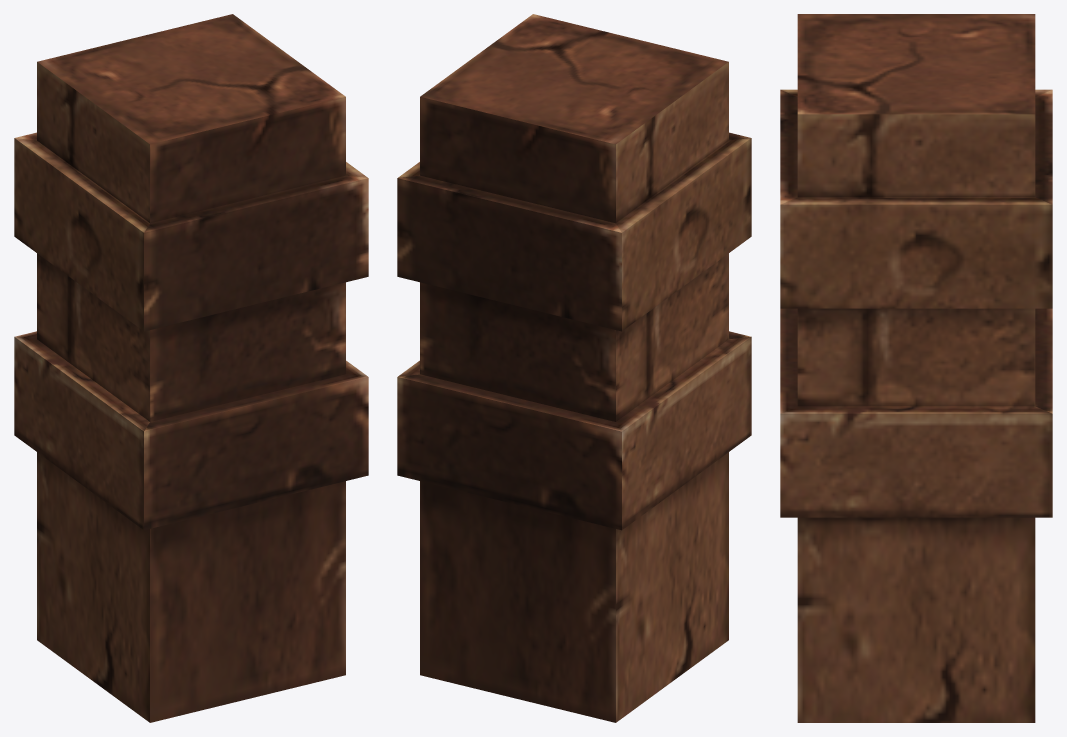
The model's file is ZhuZi01.FBX.
The picture shows the model from 3 angles, left to right: view 1: azimuth 30°, elevation 25°; view 2: azimuth 150°, elevation 25°; view 3: azimuth 270°, elevation 25°; orthographic projection. The views are drawn at different scales.
Visible parts, largest first — view 1: ZhuZi01; view 2: ZhuZi01; view 3: ZhuZi01.
Part boxes in pixels (x1,y1,x2,y2): ZhuZi01: (14,14,368,722); ZhuZi01: (397,14,751,722); ZhuZi01: (780,14,1052,722).
Size of the model in its own units: 98.19 by 242 by 98.19.
